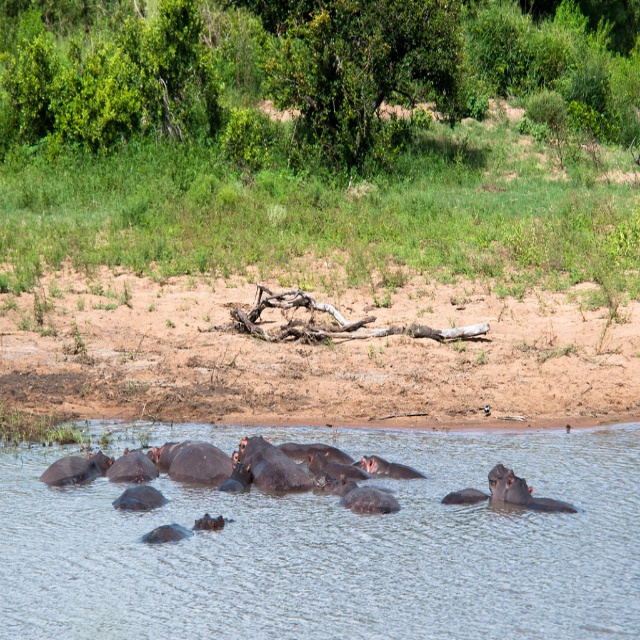Hippopotamus: (42, 436, 423, 492), (486, 466, 574, 504), (137, 513, 222, 550)
